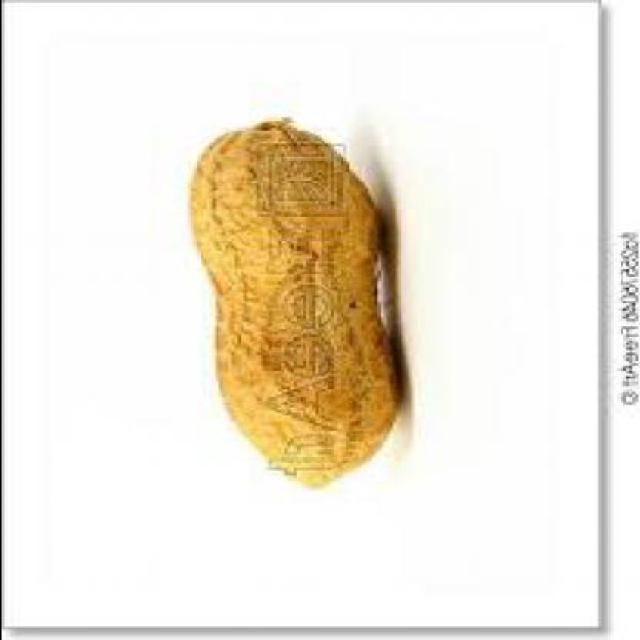BIODEGRADABLE: (183, 117, 399, 486)
